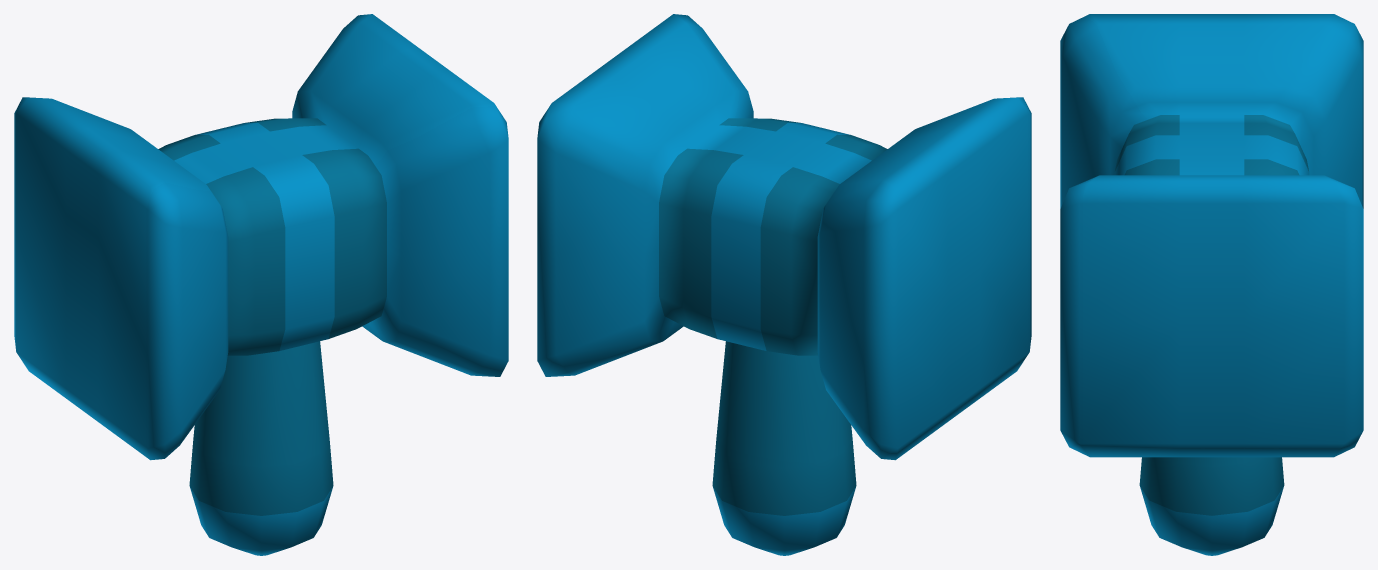
The model's file is Hammer.fbx.
The picture shows the model from 3 angles, left to right: view 1: azimuth 30°, elevation 25°; view 2: azimuth 150°, elevation 25°; view 3: azimuth 270°, elevation 25°; orthographic projection.
Parts seen in each view (by area): view 1: Hammer; view 2: Hammer; view 3: Hammer.
Part boxes in pixels (<box>): Hammer: <box>14,14,508,555</box>; Hammer: <box>537,14,1031,555</box>; Hammer: <box>1060,14,1363,555</box>.
Size of the model in its own units: 0.8044 by 0.5855 by 0.9657.
